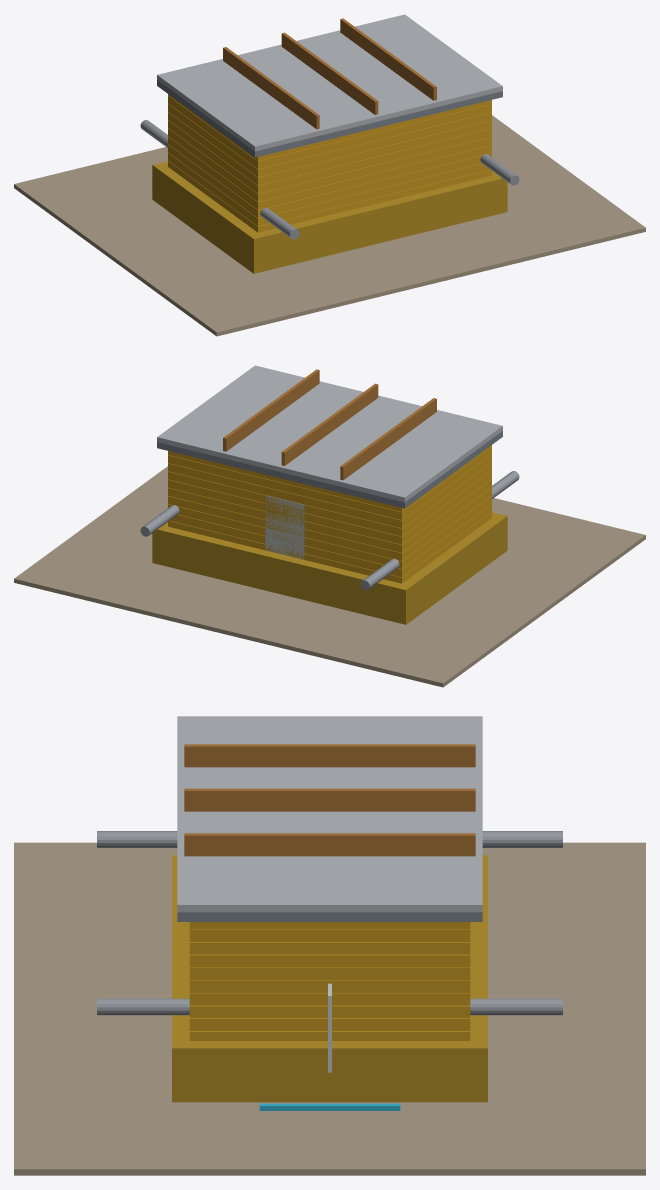
File: stage_10_roof_covering.glb
3 renders of one model, top to bottom at view 1: azimuth 30°, elevation 25°; view 2: azimuth 150°, elevation 25°; view 3: azimuth 270°, elevation 25°, orthographic. The views are drawn at different scales.
Visible parts, largest first — view 1: world; view 2: world; view 3: world.
Boxes of the visible parts, x1,y1,x2,y2 form: world: (14,14,645,336); world: (14,365,645,687); world: (14,716,645,1175).
Bounding box in the file's own units: 11 × 4.2 × 9.
